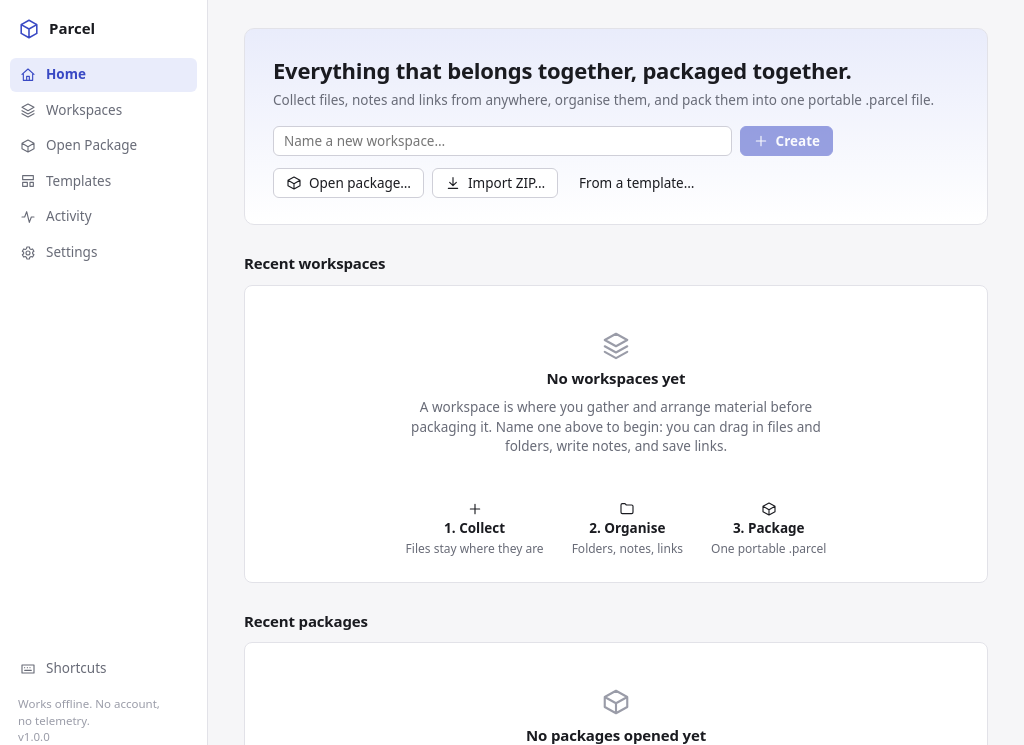
home screen › creates a workspace from the quick-create box and opens the editor
This screenshot has width=1024, height=745.
Expected: the button "Create" is disabled, x1=740 y1=126 x2=833 y2=156
Type "Thesis" into the field named "New workspace name". click: (502, 142)
box: x1=273 y1=126 x2=732 y2=156
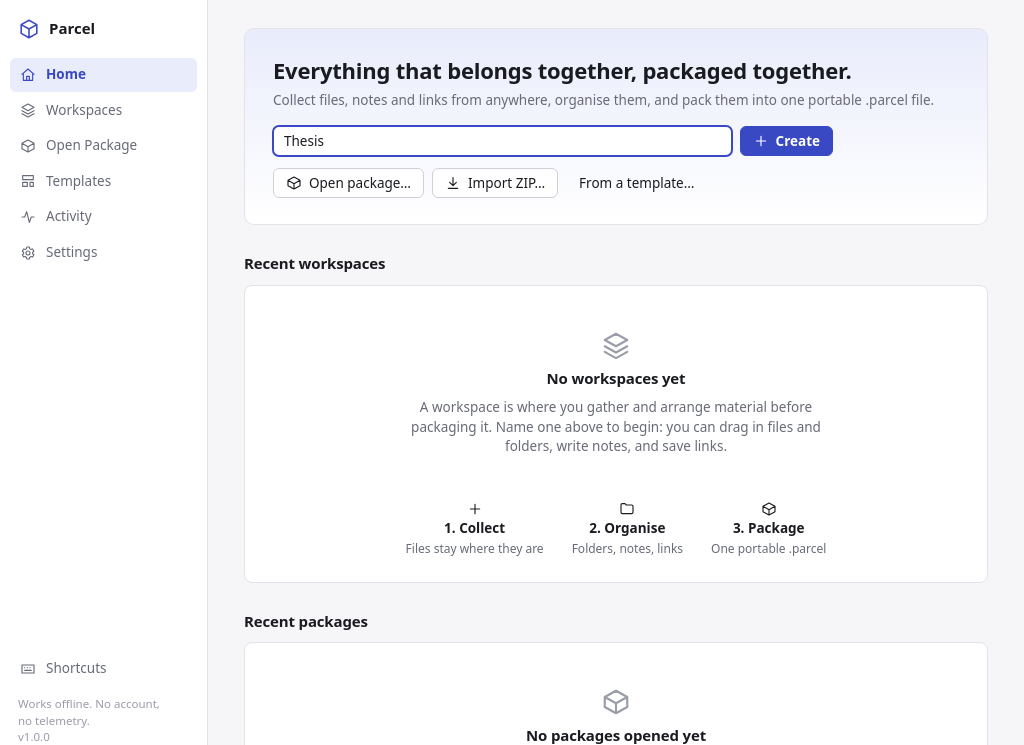
Click the button "Create". click: (786, 142)
box: x1=740 y1=126 x2=833 y2=156
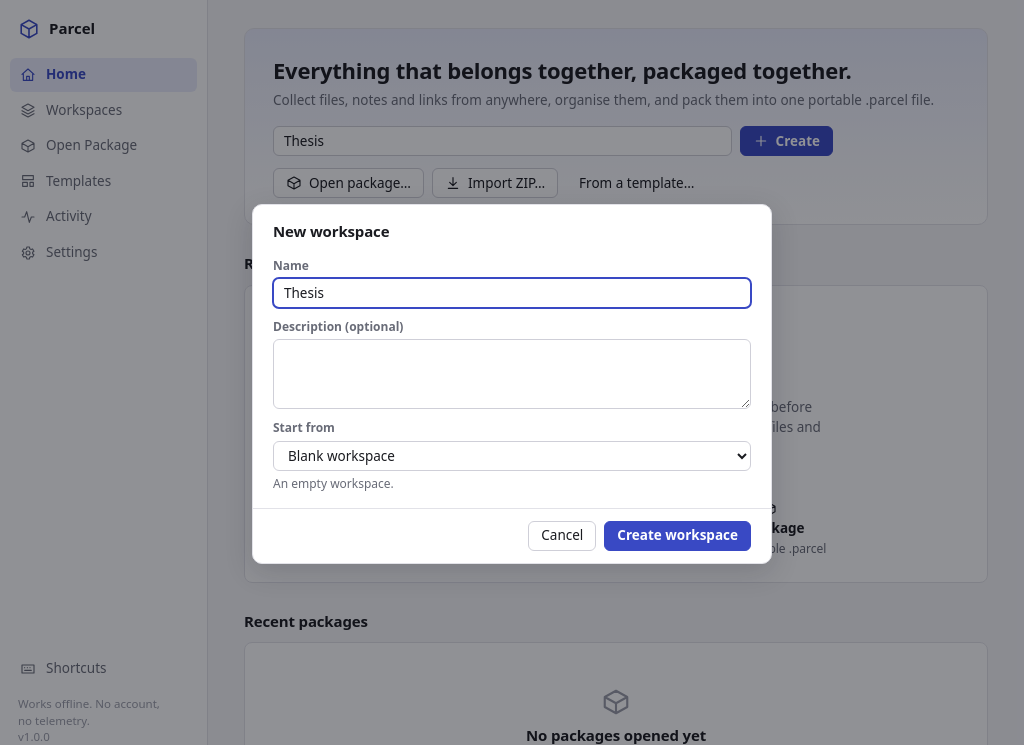
Click the button "Create workspace". click: (678, 536)
box: x1=604 y1=521 x2=751 y2=551
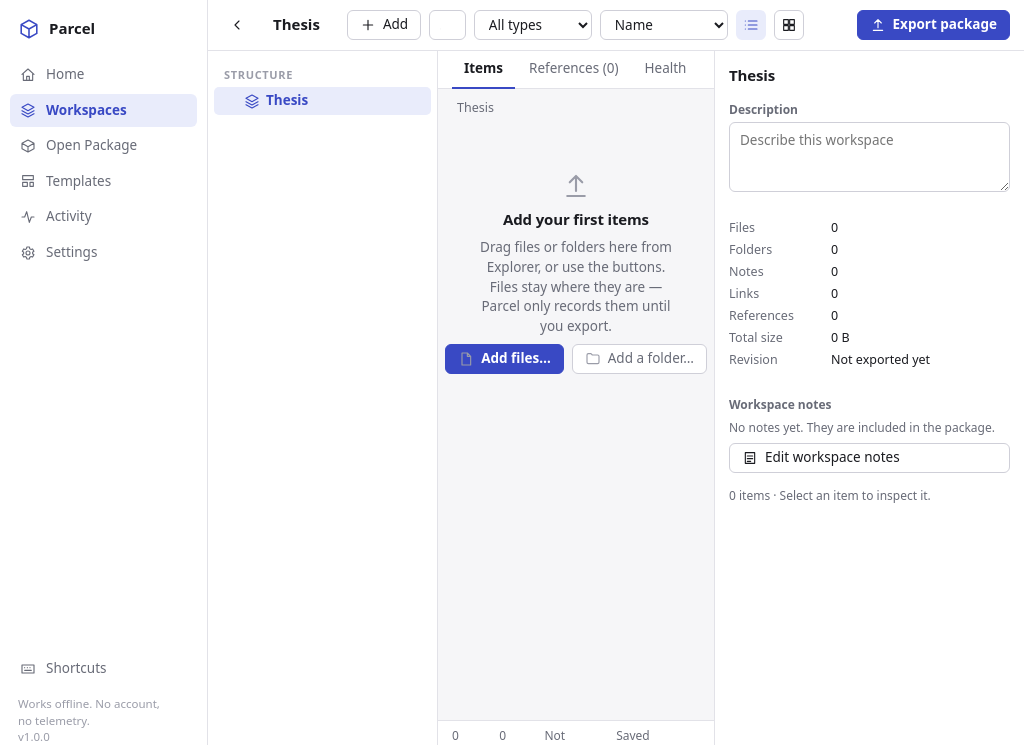
Expected: the 1st button "Thesis" is shown, x1=260 y1=10 x2=333 y2=40
Expected: the element named "Workspace tools" is shown, x1=208 y1=0 x2=1023 y2=51
Expected: the heading "Add your first items" is shown, x1=503 y1=209 x2=649 y2=230
